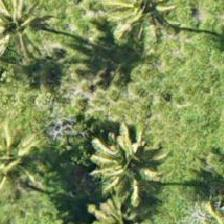coconut_tree: (84, 121, 174, 211), (0, 120, 57, 210), (97, 0, 187, 48), (0, 0, 61, 69)
